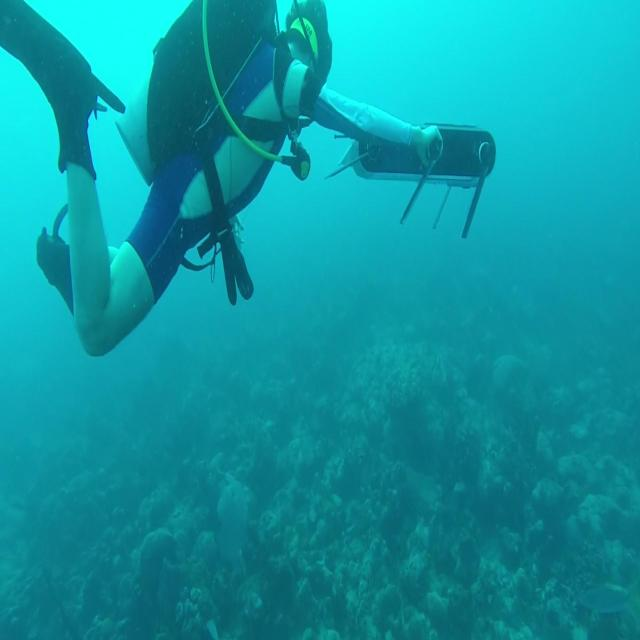human: (2, 0, 495, 357)
